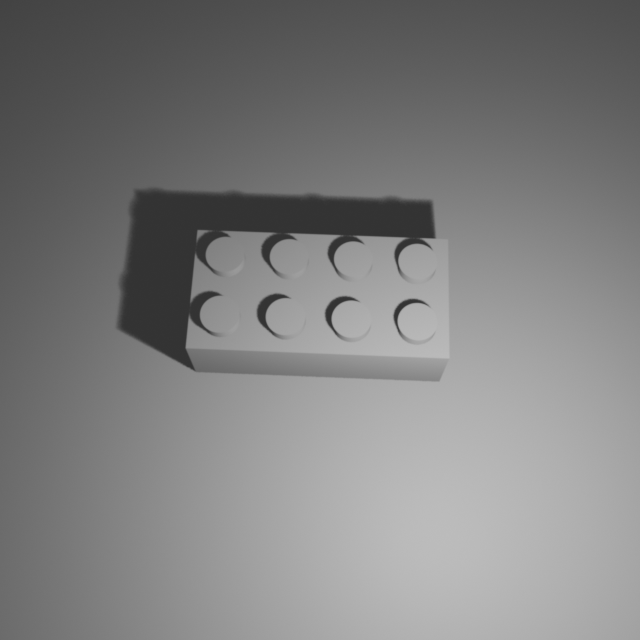lego_2x4: (184, 224, 451, 382)
